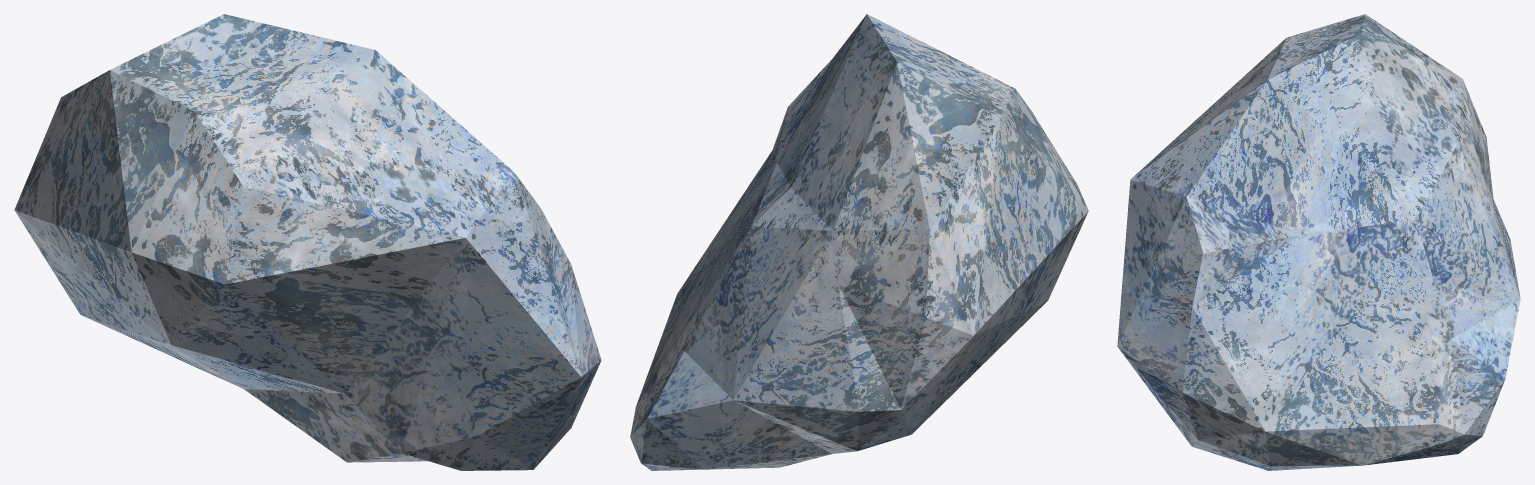
Rendered from asteroid_ice_radial_s01_l1.fbx.
3 views of the same model, side by side, from view 1: azimuth 30°, elevation 25°; view 2: azimuth 150°, elevation 25°; view 3: azimuth 270°, elevation 25° (orthographic). The views are drawn at different scales.
Visible parts, largest first — view 1: mesh_node; view 2: mesh_node; view 3: mesh_node.
Boxes of the visible parts, x1=… form: mesh_node: x1=14, y1=14, x2=601, y2=470; mesh_node: x1=630, y1=14, x2=1088, y2=470; mesh_node: x1=1117, y1=14, x2=1520, y2=470.
Bounding box in the file's own units: 4.15 × 4.07 × 4.16.
Materials: 1 (1 with a texture image).
